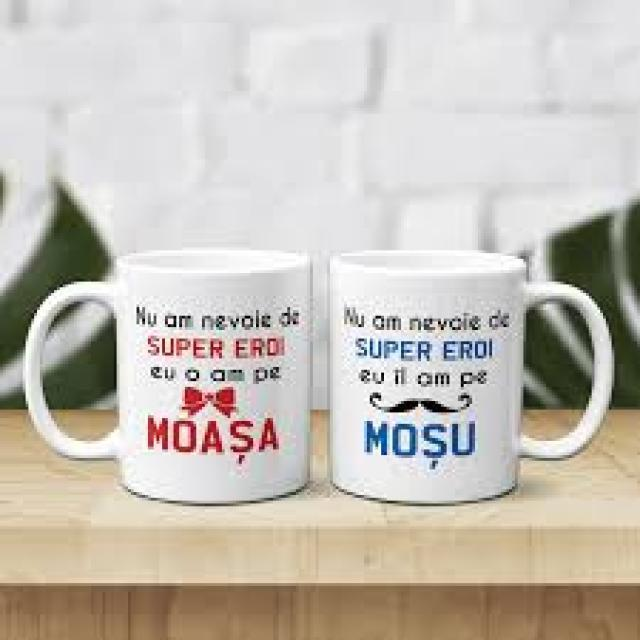taza: (19, 226, 316, 502), (329, 239, 618, 503)
